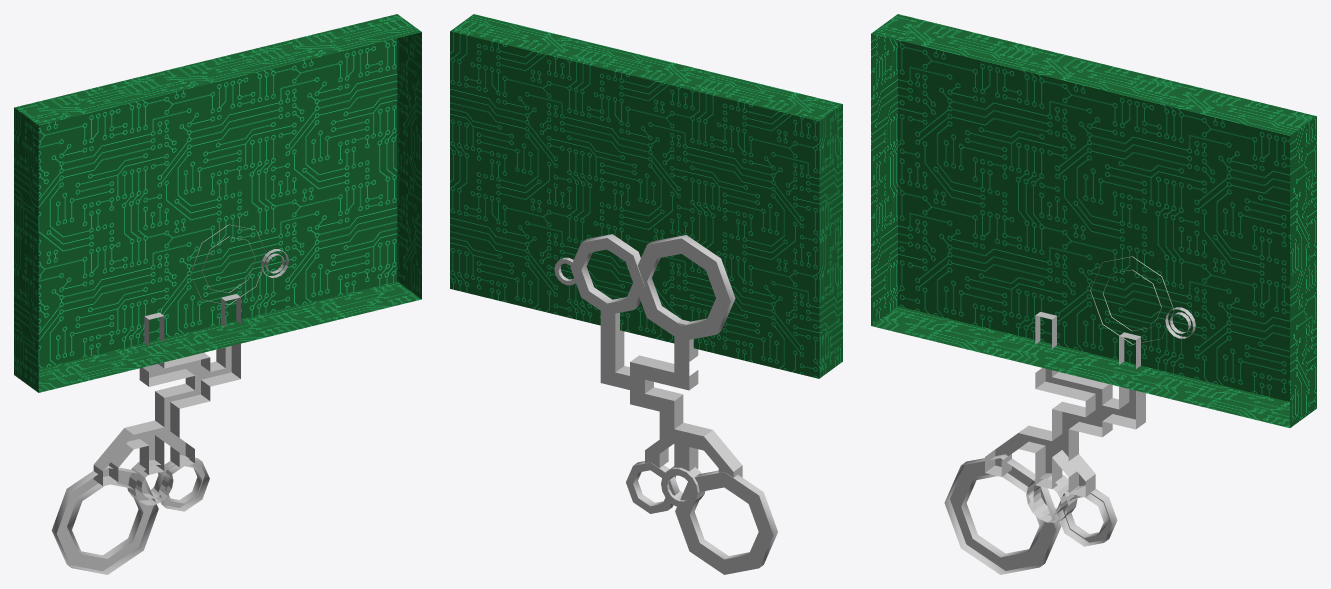
The model's file is Circuit Tree Test 001.obj.
3 renders of one model, left to right at view 1: azimuth 30°, elevation 25°; view 2: azimuth 150°, elevation 25°; view 3: azimuth 330°, elevation 25°, orthographic. The views are drawn at different scales.
Parts seen in each view (by area): view 1: Circuit Tree Test 001_1, Circuit Tree Test 001_0; view 2: Circuit Tree Test 001_1, Circuit Tree Test 001_0; view 3: Circuit Tree Test 001_1, Circuit Tree Test 001_0.
Boxes of the visible parts, left/top/right/bottom form: Circuit Tree Test 001_1: left=14, top=14, right=421, bottom=392; Circuit Tree Test 001_0: left=51, top=224, right=288, bottom=574; Circuit Tree Test 001_1: left=450, top=14, right=842, bottom=378; Circuit Tree Test 001_0: left=554, top=234, right=777, bottom=574; Circuit Tree Test 001_1: left=871, top=14, right=1316, bottom=427; Circuit Tree Test 001_0: left=944, top=256, right=1195, bottom=574.
Bounding box in the file's own units: 4.5 × 5.5 × 0.6375.
